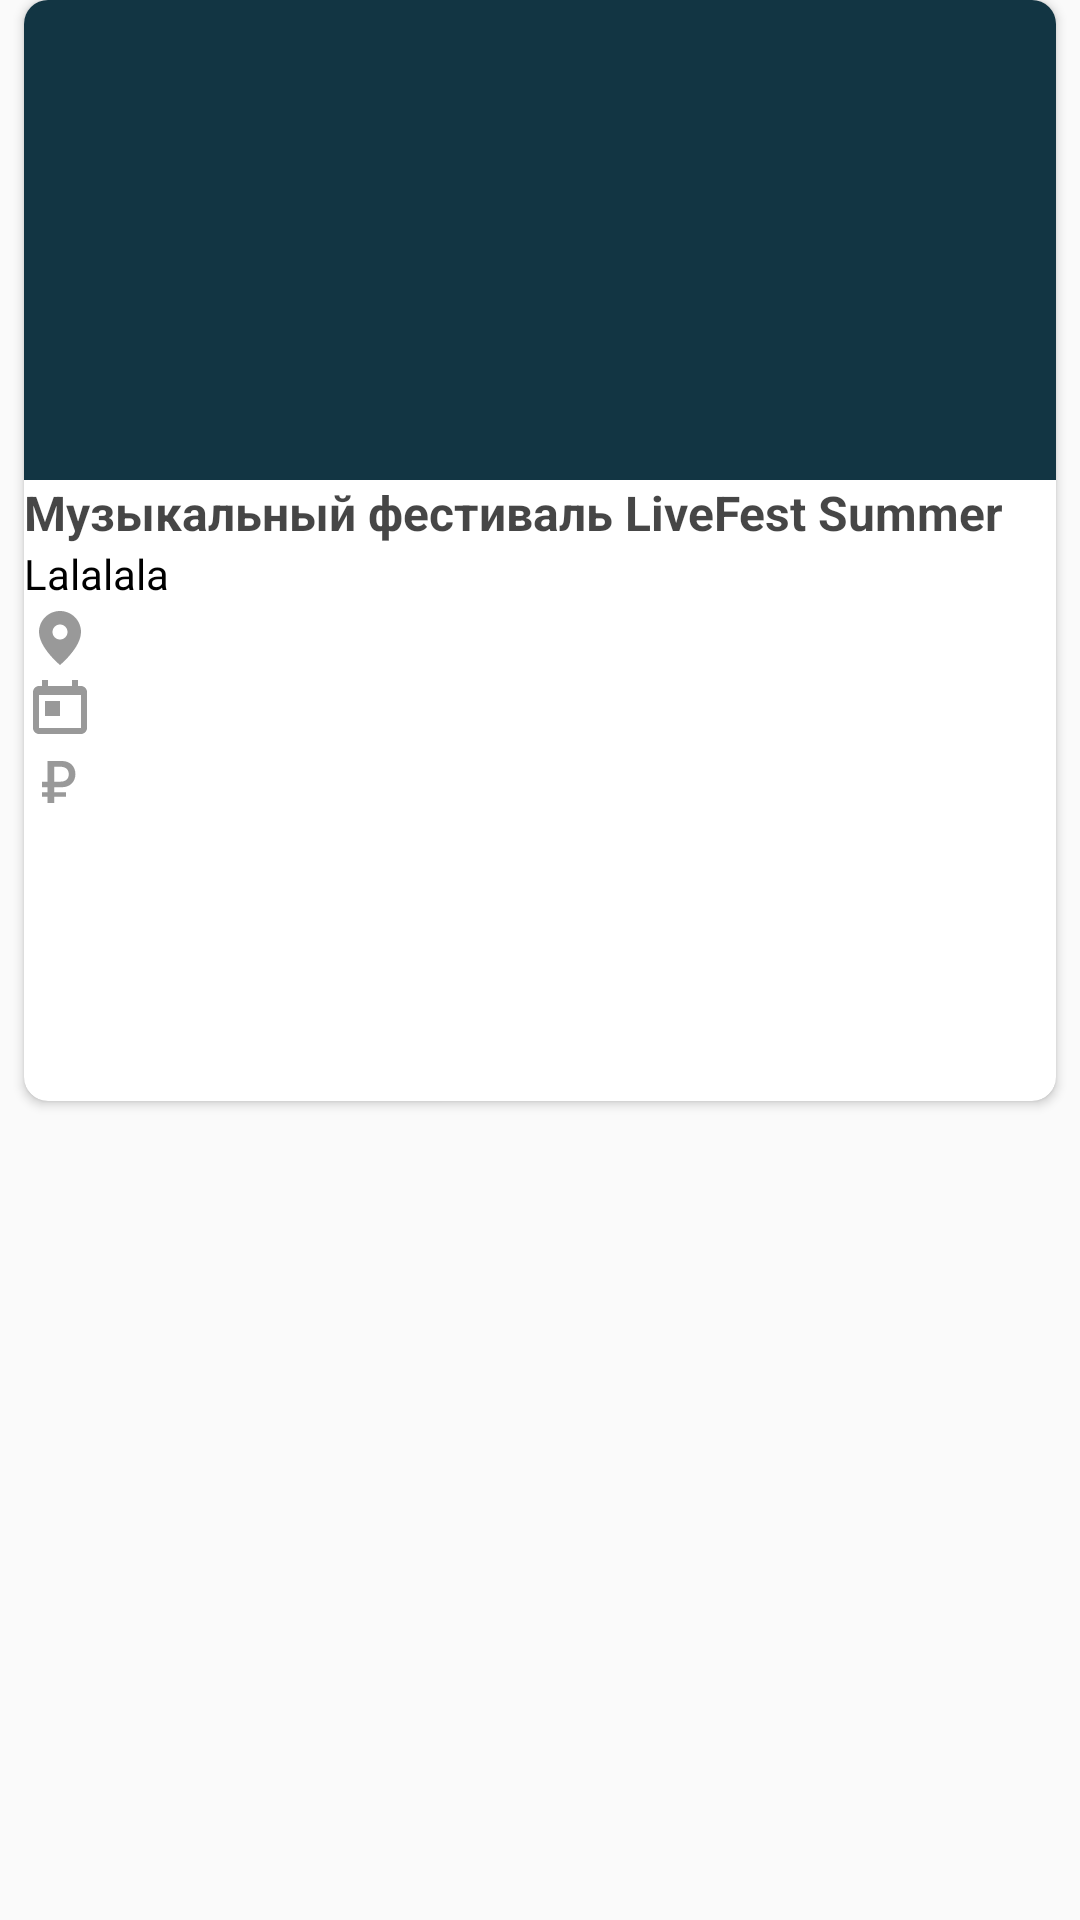

Icon bounding boxes for this 1080px x 1920px phone screenshot, format [x1,y1,x2,y2]:
attach money: [42,761,76,803]
location: [39,611,81,665]
today: [33,680,87,734]
